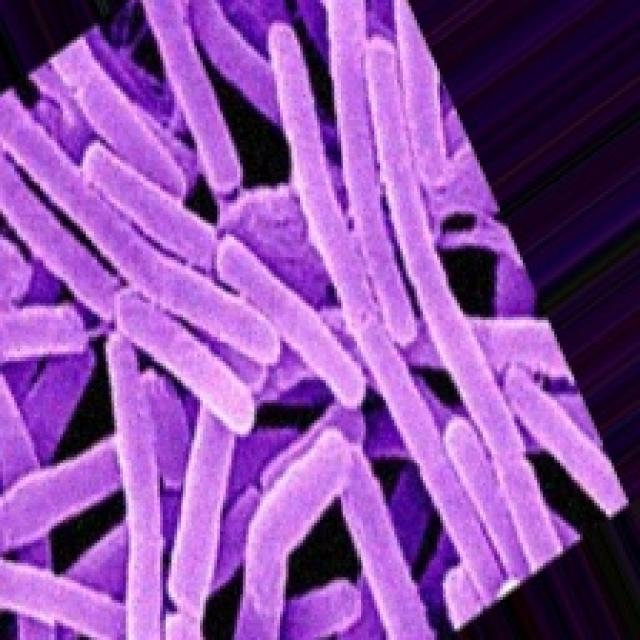Rod_bacteria: (0, 0, 629, 637)
